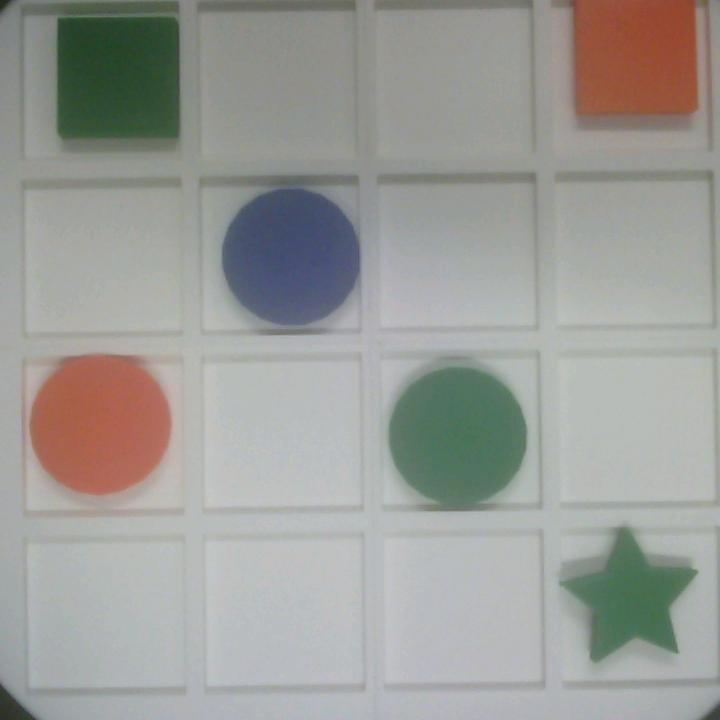Blue circle: (217, 186, 357, 322)
Green circle: (382, 359, 529, 507)
Green square: (50, 14, 180, 145)
Green star: (555, 527, 700, 663)
Orange circle: (29, 357, 167, 495)
Orange square: (573, 1, 700, 123)
